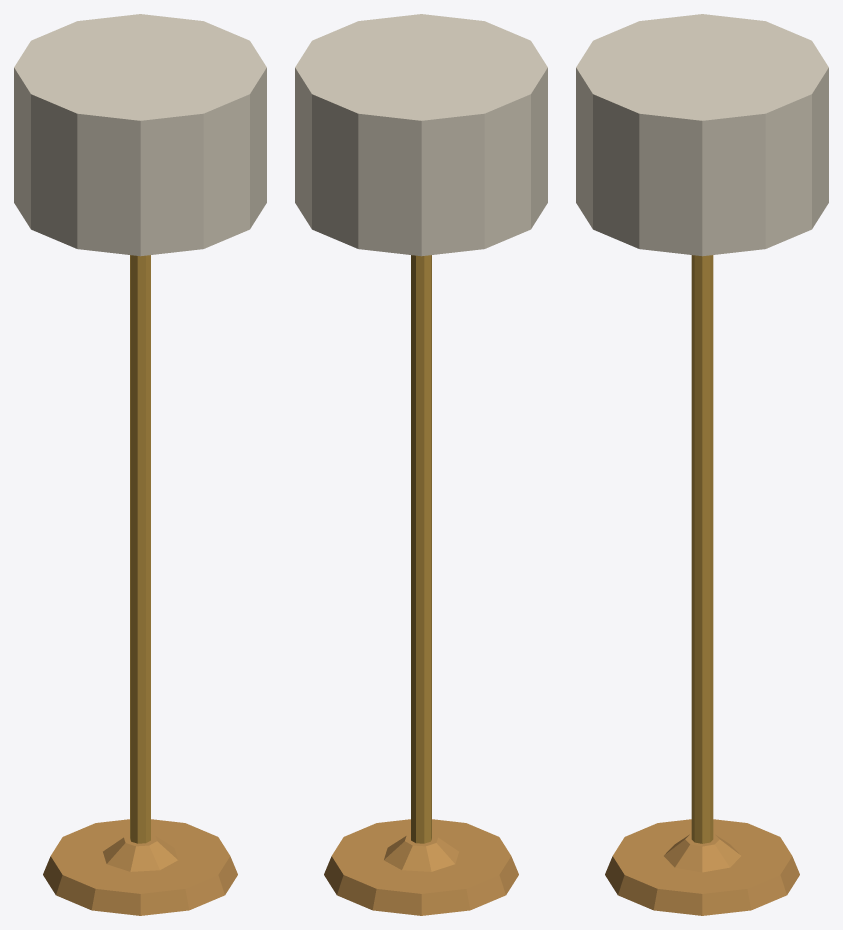
Rendered from SM_LPI_Light_Floor_01.fbx.
3 views of the same model, side by side, from view 1: azimuth 30°, elevation 25°; view 2: azimuth 150°, elevation 25°; view 3: azimuth 270°, elevation 25° (orthographic).
Visible parts, largest first — view 1: SM_LPI_Light_Floor_01; view 2: SM_LPI_Light_Floor_01; view 3: SM_LPI_Light_Floor_01.
Part boxes in pixels (box(x1,y1,x2,y2)): SM_LPI_Light_Floor_01: box(14, 14, 266, 915); SM_LPI_Light_Floor_01: box(295, 14, 547, 915); SM_LPI_Light_Floor_01: box(576, 14, 828, 915).
Size of the model in its own units: 0.44 by 1.55 by 0.44.
